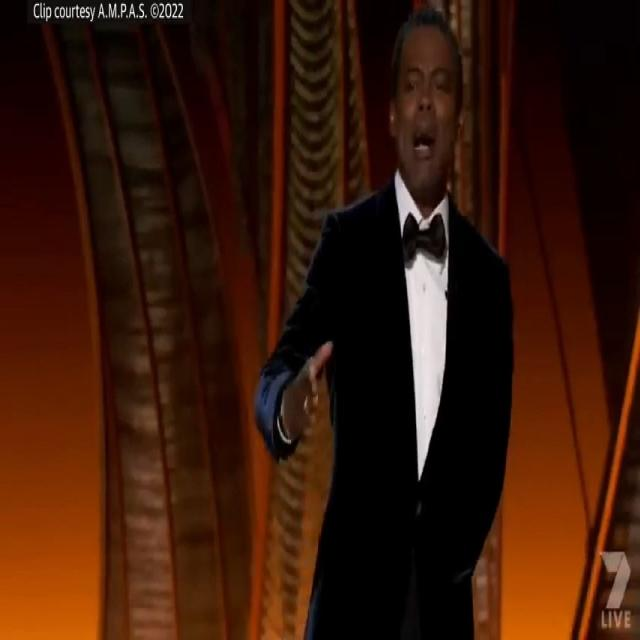non-fight: (252, 9, 516, 640)
